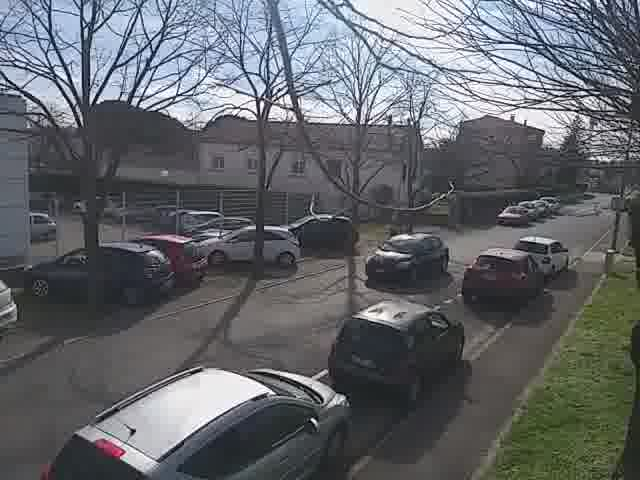persona: (384, 199, 405, 241)
